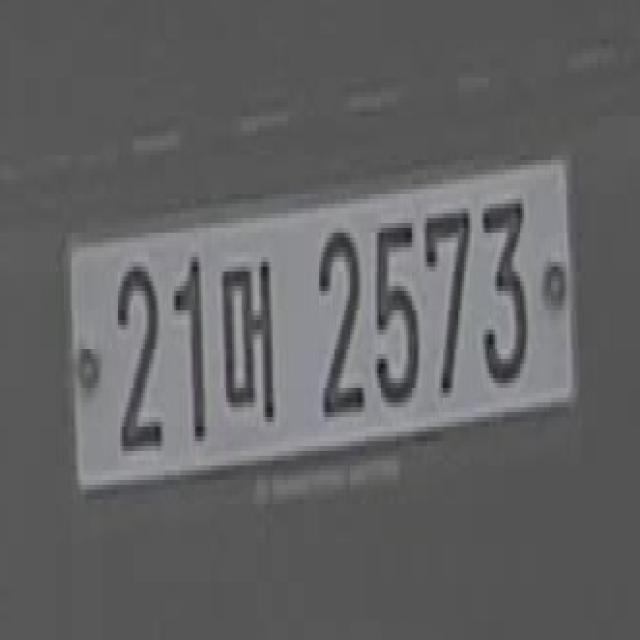plat: (62, 153, 580, 490)
